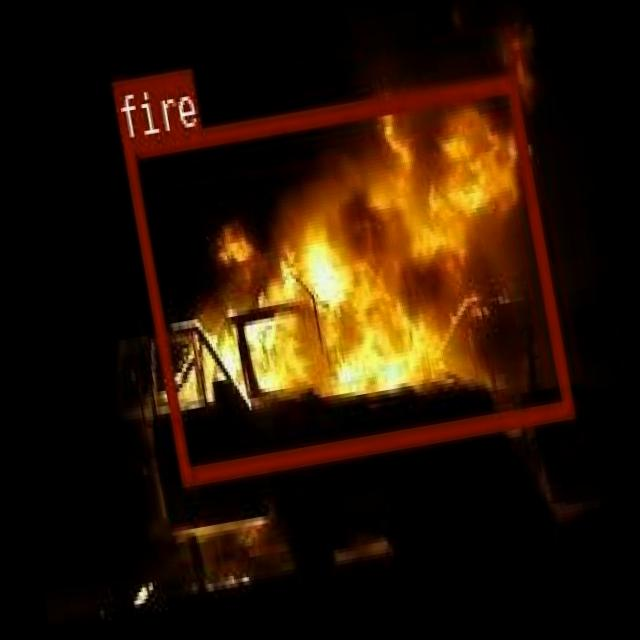fire: (120, 72, 572, 481)
